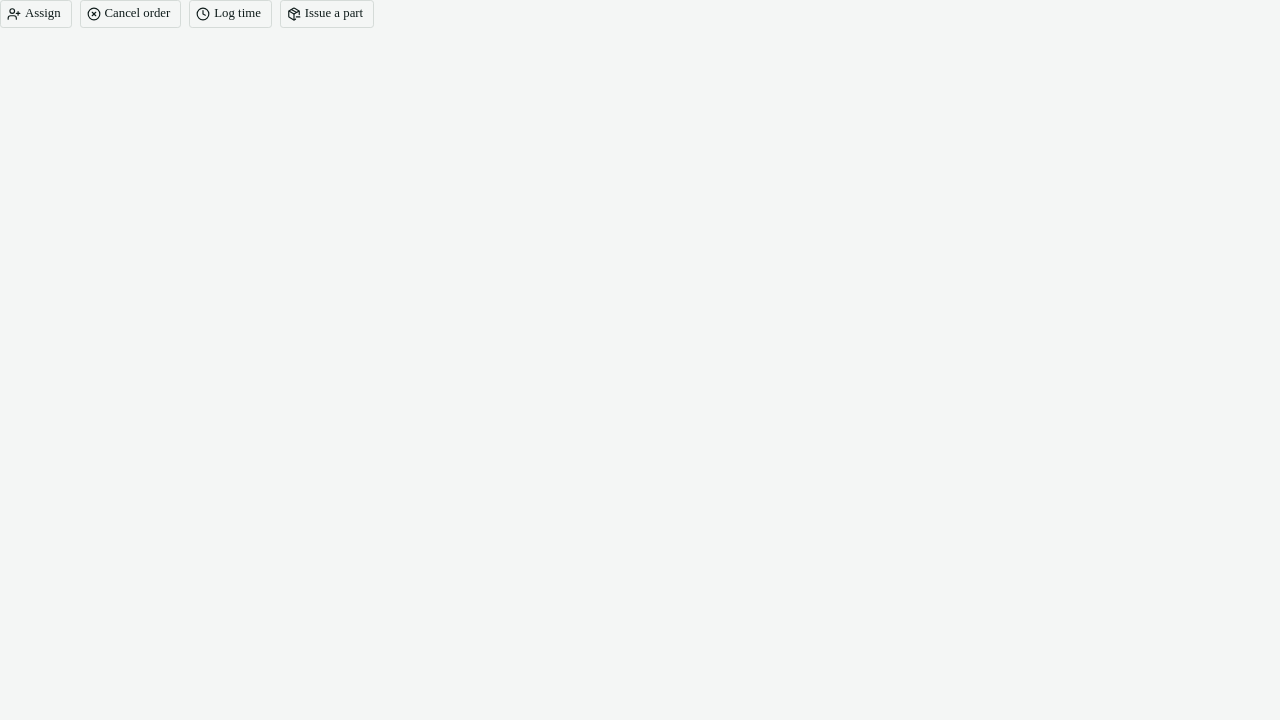
Test case: who each assignee list offers › leaves the auditor out of the assign dialog too, and says so there
The image size is (1280, 720).
Click the button "Assign": [36, 14] box [0,0,72,28]
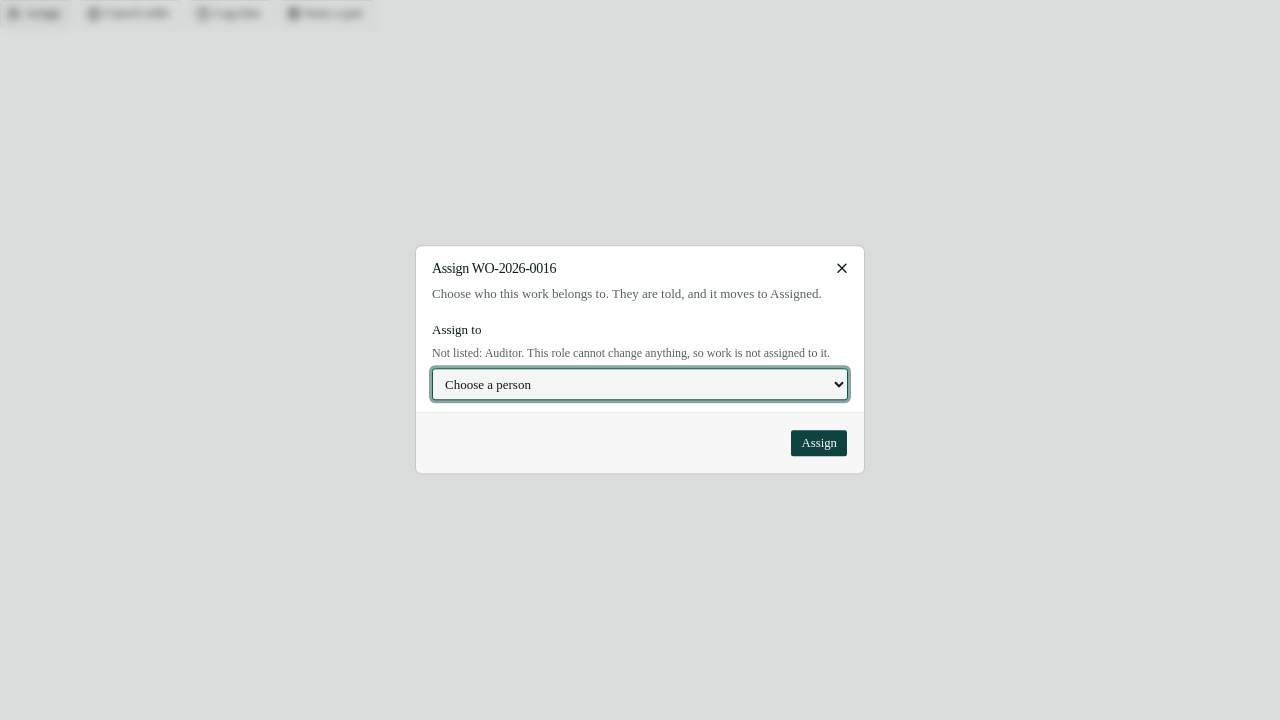
expect the text "Not listed:" does not show "Inspector": met, box [432,345,848,363]
expect the text "Not listed:" shows "Auditor": met, box [432,346,830,360]
